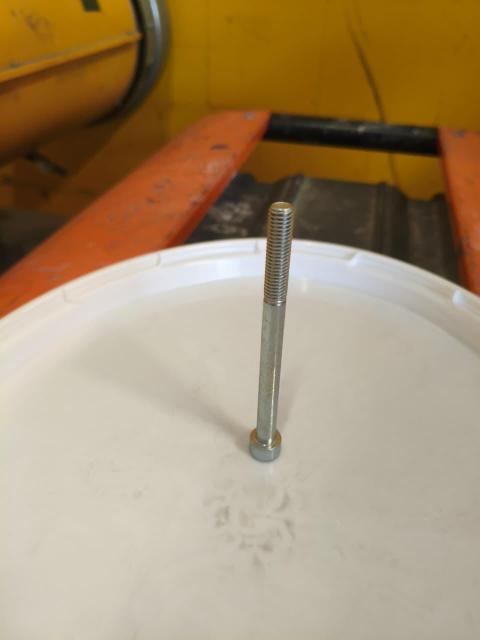Metal: (237, 197, 310, 465)
